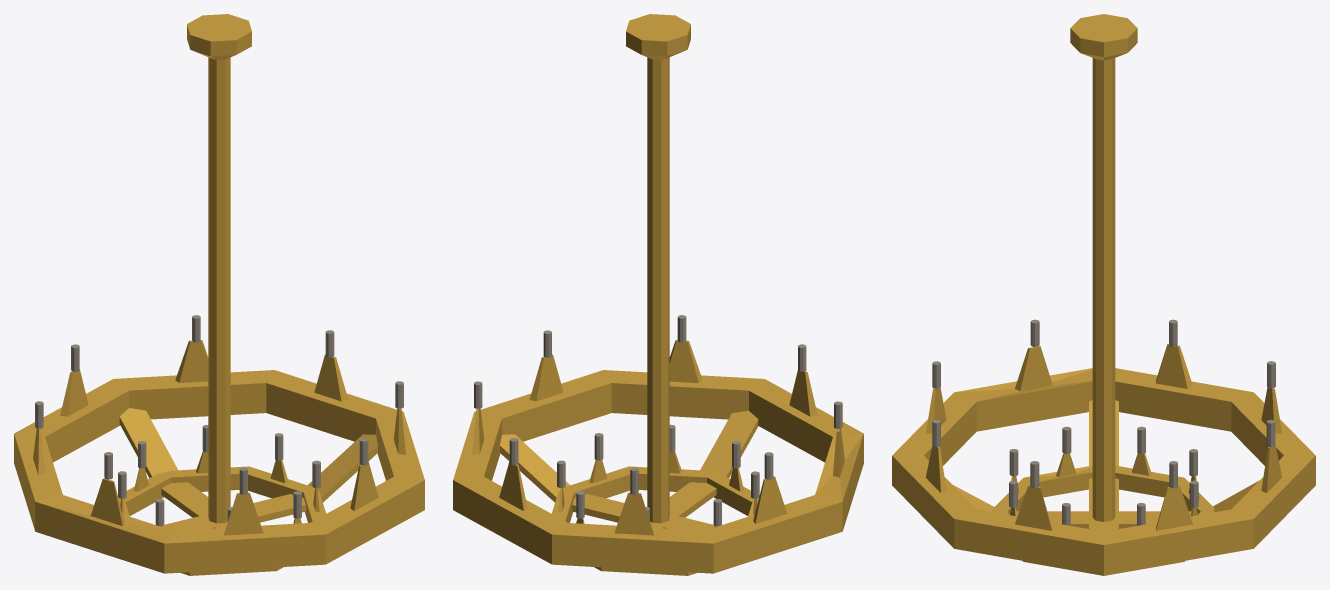
Rendered from Lustre.obj.
The picture shows the model from 3 angles, left to right: view 1: azimuth 30°, elevation 25°; view 2: azimuth 150°, elevation 25°; view 3: azimuth 270°, elevation 25°; orthographic projection.
Visible parts, largest first — view 1: Cilindro, Cubo_Cubo.001, Cilindro.001; view 2: Cilindro, Cubo_Cubo.001, Cilindro.001; view 3: Cilindro, Cilindro.001, Cubo_Cubo.001.
Boxes of the visible parts, left/top/right/bottom form: Cilindro: left=14, top=14, right=424, bottom=575; Cubo_Cubo.001: left=119, top=408, right=377, bottom=530; Cilindro.001: left=35, top=315, right=403, bottom=526; Cilindro: left=453, top=14, right=863, bottom=575; Cubo_Cubo.001: left=500, top=410, right=758, bottom=530; Cilindro.001: left=474, top=315, right=842, bottom=526; Cilindro: left=892, top=14, right=1315, bottom=575; Cilindro.001: left=932, top=319, right=1275, bottom=525; Cubo_Cubo.001: left=953, top=400, right=1259, bottom=531.
Size of the model in its own units: 5.58 by 7.25 by 5.58.
